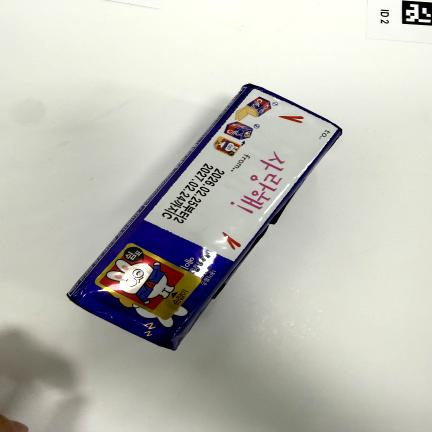cracker_ace: (68, 84, 342, 350)
